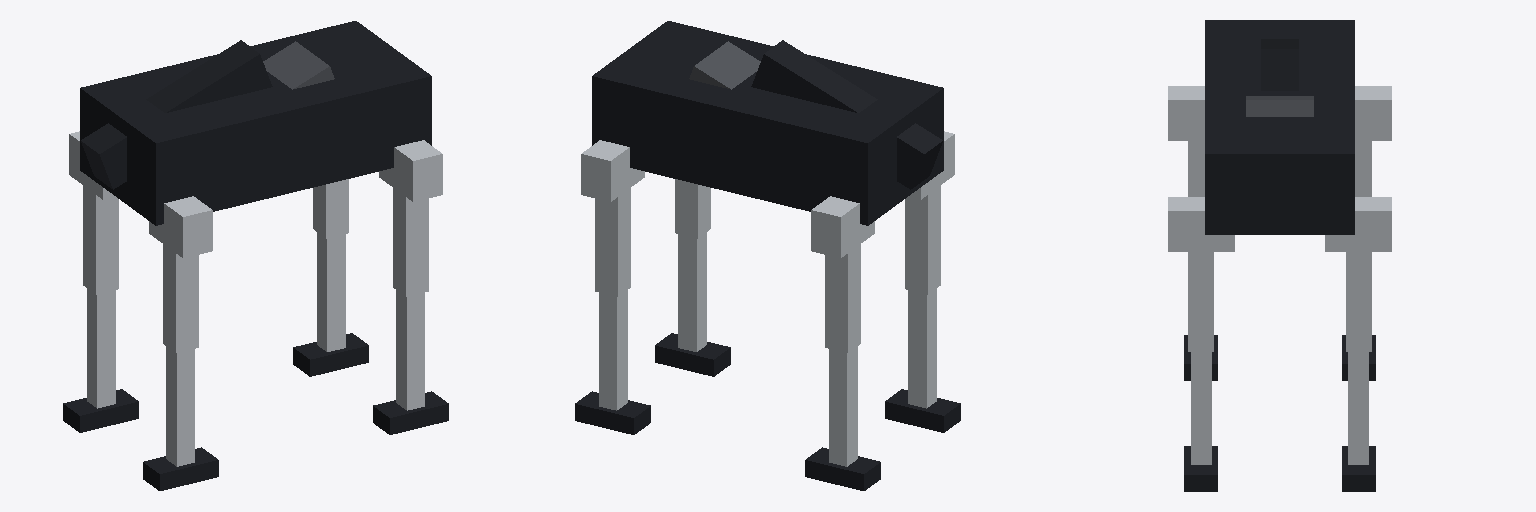
robot.urdf — unitree_go1:
<?xml version="1.0"?>
<robot name="unitree_go1">
  <link name="base_link">
    <visual>
      <origin xyz="0 0 0.06" rpy="0 0 0" />
      <geometry><box size="0.42 0.20 0.12" /></geometry>
      <material name="dark" />
    </visual>
    <visual>
      <origin xyz="-0.12 0 0.10" rpy="0.0 -0.35 0" />
      <geometry><box size="0.26 0.05 0.06" /></geometry>
      <material name="dark" />
    </visual>
    <visual>
      <origin xyz="0.02 0 0.09" rpy="0 -0.35 0" />
      <geometry><box size="0.16 0.09 0.05" /></geometry>
      <material name="gray" />
    </visual>
    <inertial>
      <origin xyz="0 0 0.06" />
      <mass value="10" />
      <inertia ixx="0.1" ixy="0" ixz="0" iyy="0.1" iyz="0" izz="0.1" />
    </inertial>
  </link>

  <link name="FL_hip">
    <visual>
      <origin xyz="0 0 0" rpy="0 0 0" />
      <geometry><box size="0.045 0.09 0.06" /></geometry>
      <material name="silver" />
    </visual>
    <inertial>
      <origin xyz="0 0 0" />
      <mass value="0.5" />
      <inertia ixx="0.001" ixy="0" ixz="0" iyy="0.001" iyz="0" izz="0.001" />
    </inertial>
  </link>
  <joint name="FL_hip_joint" type="revolute">
    <parent link="base_link" />
    <child link="FL_hip" />
    <origin xyz="0.175 -0.105 0" rpy="0 0 0" />
    <axis xyz="1 0 0" />
    <limit lower="-0.7" upper="0.7" effort="23" velocity="10" />
  </joint>

  <link name="FL_thigh">
    <visual>
      <origin xyz="0 0 -0.09" rpy="0 0 0" />
      <geometry><box size="0.035 0.035 0.18" /></geometry>
      <material name="silver" />
    </visual>
    <inertial>
      <origin xyz="0 0 -0.09" />
      <mass value="0.8" />
      <inertia ixx="0.002" ixy="0" ixz="0" iyy="0.002" iyz="0" izz="0.001" />
    </inertial>
  </link>
  <joint name="FL_thigh_joint" type="revolute">
    <parent link="FL_hip" />
    <child link="FL_thigh" />
    <origin xyz="0 0 0" rpy="0 0 0" />
    <axis xyz="0 1 0" />
    <limit lower="-1.9" upper="0.9" effort="47" velocity="10" />
  </joint>

  <link name="FL_calf">
    <visual>
      <origin xyz="0 0 -0.09" rpy="0 0 0" />
      <geometry><box size="0.028 0.028 0.18" /></geometry>
      <material name="silver" />
    </visual>
    <visual>
      <origin xyz="0 0 -0.18" rpy="0 0 0" />
      <geometry><box size="0.09 0.045 0.025" /></geometry>
      <material name="dark" />
    </visual>
    <inertial>
      <origin xyz="0 0 -0.09" />
      <mass value="0.6" />
      <inertia ixx="0.001" ixy="0" ixz="0" iyy="0.001" iyz="0" izz="0.001" />
    </inertial>
  </link>
  <joint name="FL_calf_joint" type="revolute">
    <parent link="FL_thigh" />
    <child link="FL_calf" />
    <origin xyz="0 0 -0.18" rpy="0 0 0" />
    <axis xyz="0 1 0" />
    <limit lower="-2.5" upper="0" effort="40" velocity="10" />
  </joint>

  <link name="FR_hip">
    <visual>
      <origin xyz="0 0 0" rpy="0 0 0" />
      <geometry><box size="0.045 0.09 0.06" /></geometry>
      <material name="silver" />
    </visual>
    <inertial>
      <origin xyz="0 0 0" />
      <mass value="0.5" />
      <inertia ixx="0.001" ixy="0" ixz="0" iyy="0.001" iyz="0" izz="0.001" />
    </inertial>
  </link>
  <joint name="FR_hip_joint" type="revolute">
    <parent link="base_link" />
    <child link="FR_hip" />
    <origin xyz="0.175 0.105 0" rpy="0 0 0" />
    <axis xyz="1 0 0" />
    <limit lower="-0.7" upper="0.7" effort="23" velocity="10" />
  </joint>

  <link name="FR_thigh">
    <visual>
      <origin xyz="0 0 -0.09" rpy="0 0 0" />
      <geometry><box size="0.035 0.035 0.18" /></geometry>
      <material name="silver" />
    </visual>
    <inertial>
      <origin xyz="0 0 -0.09" />
      <mass value="0.8" />
      <inertia ixx="0.002" ixy="0" ixz="0" iyy="0.002" iyz="0" izz="0.001" />
    </inertial>
  </link>
  <joint name="FR_thigh_joint" type="revolute">
    <parent link="FR_hip" />
    <child link="FR_thigh" />
    <origin xyz="0 0 0" rpy="0 0 0" />
    <axis xyz="0 1 0" />
    <limit lower="-1.9" upper="0.9" effort="47" velocity="10" />
  </joint>

  <link name="FR_calf">
    <visual>
      <origin xyz="0 0 -0.09" rpy="0 0 0" />
      <geometry><box size="0.028 0.028 0.18" /></geometry>
      <material name="silver" />
    </visual>
    <visual>
      <origin xyz="0 0 -0.18" rpy="0 0 0" />
      <geometry><box size="0.09 0.045 0.025" /></geometry>
      <material name="dark" />
    </visual>
    <inertial>
      <origin xyz="0 0 -0.09" />
      <mass value="0.6" />
      <inertia ixx="0.001" ixy="0" ixz="0" iyy="0.001" iyz="0" izz="0.001" />
    </inertial>
  </link>
  <joint name="FR_calf_joint" type="revolute">
    <parent link="FR_thigh" />
    <child link="FR_calf" />
    <origin xyz="0 0 -0.18" rpy="0 0 0" />
    <axis xyz="0 1 0" />
    <limit lower="-2.5" upper="0" effort="40" velocity="10" />
  </joint>

  <link name="RL_hip">
    <visual>
      <origin xyz="0 0 0" rpy="0 0 0" />
      <geometry><box size="0.045 0.09 0.06" /></geometry>
      <material name="silver" />
    </visual>
    <inertial>
      <origin xyz="0 0 0" />
      <mass value="0.5" />
      <inertia ixx="0.001" ixy="0" ixz="0" iyy="0.001" iyz="0" izz="0.001" />
    </inertial>
  </link>
  <joint name="RL_hip_joint" type="revolute">
    <parent link="base_link" />
    <child link="RL_hip" />
    <origin xyz="-0.175 -0.105 0" rpy="0 0 0" />
    <axis xyz="1 0 0" />
    <limit lower="-0.7" upper="0.7" effort="23" velocity="10" />
  </joint>

  <link name="RL_thigh">
    <visual>
      <origin xyz="0 0 -0.09" rpy="0 0 0" />
      <geometry><box size="0.035 0.035 0.18" /></geometry>
      <material name="silver" />
    </visual>
    <inertial>
      <origin xyz="0 0 -0.09" />
      <mass value="0.8" />
      <inertia ixx="0.002" ixy="0" ixz="0" iyy="0.002" iyz="0" izz="0.001" />
    </inertial>
  </link>
  <joint name="RL_thigh_joint" type="revolute">
    <parent link="RL_hip" />
    <child link="RL_thigh" />
    <origin xyz="0 0 0" rpy="0 0 0" />
    <axis xyz="0 1 0" />
    <limit lower="-1.9" upper="0.9" effort="47" velocity="10" />
  </joint>

  <link name="RL_calf">
    <visual>
      <origin xyz="0 0 -0.09" rpy="0 0 0" />
      <geometry><box size="0.028 0.028 0.18" /></geometry>
      <material name="silver" />
    </visual>
    <visual>
      <origin xyz="0 0 -0.18" rpy="0 0 0" />
      <geometry><box size="0.09 0.045 0.025" /></geometry>
      <material name="dark" />
    </visual>
    <inertial>
      <origin xyz="0 0 -0.09" />
      <mass value="0.6" />
      <inertia ixx="0.001" ixy="0" ixz="0" iyy="0.001" iyz="0" izz="0.001" />
    </inertial>
  </link>
  <joint name="RL_calf_joint" type="revolute">
    <parent link="RL_thigh" />
    <child link="RL_calf" />
    <origin xyz="0 0 -0.18" rpy="0 0 0" />
    <axis xyz="0 1 0" />
    <limit lower="-2.5" upper="0" effort="40" velocity="10" />
  </joint>

  <link name="RR_hip">
    <visual>
      <origin xyz="0 0 0" rpy="0 0 0" />
      <geometry><box size="0.045 0.09 0.06" /></geometry>
      <material name="silver" />
    </visual>
    <inertial>
      <origin xyz="0 0 0" />
      <mass value="0.5" />
      <inertia ixx="0.001" ixy="0" ixz="0" iyy="0.001" iyz="0" izz="0.001" />
    </inertial>
  </link>
  <joint name="RR_hip_joint" type="revolute">
    <parent link="base_link" />
    <child link="RR_hip" />
    <origin xyz="-0.175 0.105 0" rpy="0 0 0" />
    <axis xyz="1 0 0" />
    <limit lower="-0.7" upper="0.7" effort="23" velocity="10" />
  </joint>

  <link name="RR_thigh">
    <visual>
      <origin xyz="0 0 -0.09" rpy="0 0 0" />
      <geometry><box size="0.035 0.035 0.18" /></geometry>
      <material name="silver" />
    </visual>
    <inertial>
      <origin xyz="0 0 -0.09" />
      <mass value="0.8" />
      <inertia ixx="0.002" ixy="0" ixz="0" iyy="0.002" iyz="0" izz="0.001" />
    </inertial>
  </link>
  <joint name="RR_thigh_joint" type="revolute">
    <parent link="RR_hip" />
    <child link="RR_thigh" />
    <origin xyz="0 0 0" rpy="0 0 0" />
    <axis xyz="0 1 0" />
    <limit lower="-1.9" upper="0.9" effort="47" velocity="10" />
  </joint>

  <link name="RR_calf">
    <visual>
      <origin xyz="0 0 -0.09" rpy="0 0 0" />
      <geometry><box size="0.028 0.028 0.18" /></geometry>
      <material name="silver" />
    </visual>
    <visual>
      <origin xyz="0 0 -0.18" rpy="0 0 0" />
      <geometry><box size="0.09 0.045 0.025" /></geometry>
      <material name="dark" />
    </visual>
    <inertial>
      <origin xyz="0 0 -0.09" />
      <mass value="0.6" />
      <inertia ixx="0.001" ixy="0" ixz="0" iyy="0.001" iyz="0" izz="0.001" />
    </inertial>
  </link>
  <joint name="RR_calf_joint" type="revolute">
    <parent link="RR_thigh" />
    <child link="RR_calf" />
    <origin xyz="0 0 -0.18" rpy="0 0 0" />
    <axis xyz="0 1 0" />
    <limit lower="-2.5" upper="0" effort="40" velocity="10" />
  </joint>

  <material name="dark">
    <color rgba="0.16 0.17 0.19 1" />
  </material>
  <material name="silver">
    <color rgba="0.78 0.80 0.82 1" />
  </material>
  <material name="gray">
    <color rgba="0.35 0.36 0.38 1" />
  </material>
</robot>

--- Facts derived from the render (not from the file) ---
Views: 3 orthographic renders of the robot side by side, from view 1: azimuth 30°, elevation 25°; view 2: azimuth 150°, elevation 25°; view 3: azimuth 270°, elevation 25°.
Robot: unitree_go1 — 13 links, 12 joints (12 revolute); root link base_link; default pose: all joints at 0.
Visible links, largest first — view 1: base_link, RL_calf, FL_calf, RR_calf, FR_calf, FL_thigh, RL_thigh, RR_thigh, RL_hip, FL_hip, FR_thigh, RR_hip; view 2: base_link, RR_calf, FR_calf, RL_calf, FL_calf, FR_thigh, RR_thigh, RL_thigh, RR_hip, FR_hip, FL_thigh, RL_hip; view 3: base_link, FL_calf, FR_calf, FL_thigh, FR_thigh, FL_hip, FR_hip, RL_hip, RR_hip, RL_thigh, RR_thigh.
Link boxes in pixels (box(x1,y1,x2,y2)): base_link: box(80, 21, 431, 225); RL_calf: box(143, 346, 218, 490); FL_calf: box(373, 290, 448, 434); RR_calf: box(63, 289, 138, 432); FR_calf: box(293, 232, 368, 376); FL_thigh: box(393, 188, 428, 296); RL_thigh: box(163, 244, 198, 352); RR_thigh: box(83, 186, 118, 294); RL_hip: box(149, 196, 212, 257); FL_hip: box(379, 140, 442, 201); FR_thigh: box(313, 179, 348, 238); RR_hip: box(69, 131, 115, 199); base_link: box(592, 21, 943, 225); RR_calf: box(805, 346, 880, 490); FR_calf: box(575, 290, 650, 434); RL_calf: box(885, 289, 960, 432); FL_calf: box(655, 232, 730, 376); FR_thigh: box(595, 188, 630, 296); RR_thigh: box(825, 244, 860, 352); RL_thigh: box(905, 186, 940, 294); RR_hip: box(811, 196, 874, 257); FR_hip: box(581, 140, 644, 201); FL_thigh: box(675, 179, 710, 238); RL_hip: box(908, 131, 954, 199); base_link: box(1205, 20, 1354, 234); FL_calf: box(1184, 352, 1217, 491); FR_calf: box(1342, 352, 1375, 491); FL_thigh: box(1188, 252, 1213, 351); FR_thigh: box(1346, 252, 1371, 351); FL_hip: box(1168, 197, 1234, 251); FR_hip: box(1325, 197, 1391, 251); RL_hip: box(1168, 86, 1204, 140); RR_hip: box(1355, 86, 1391, 140); RL_thigh: box(1188, 141, 1204, 196); RR_thigh: box(1355, 141, 1371, 196).
Bounding box of the posed robot: 0.4724 × 0.3 × 0.5453 m (x, y, z).
Geometry: primitives only (box / cylinder / sphere), no mesh files.
